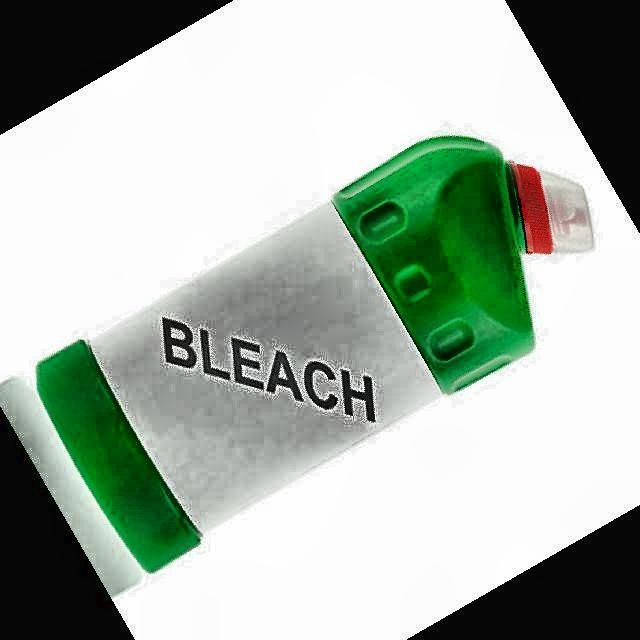plastic: (38, 139, 591, 571)
